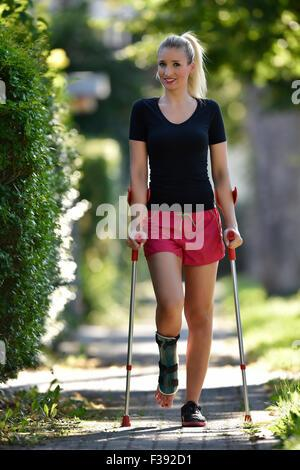crutches: (120, 32, 253, 427)
